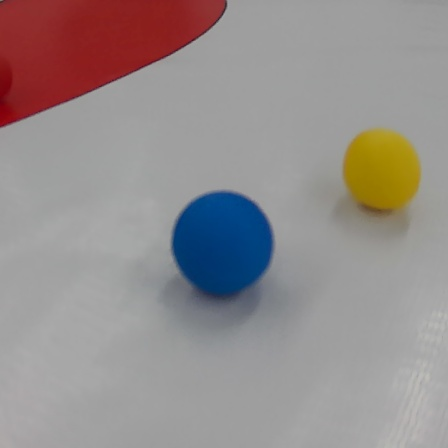blue: (169, 190, 276, 297)
yellow: (341, 126, 423, 212)
